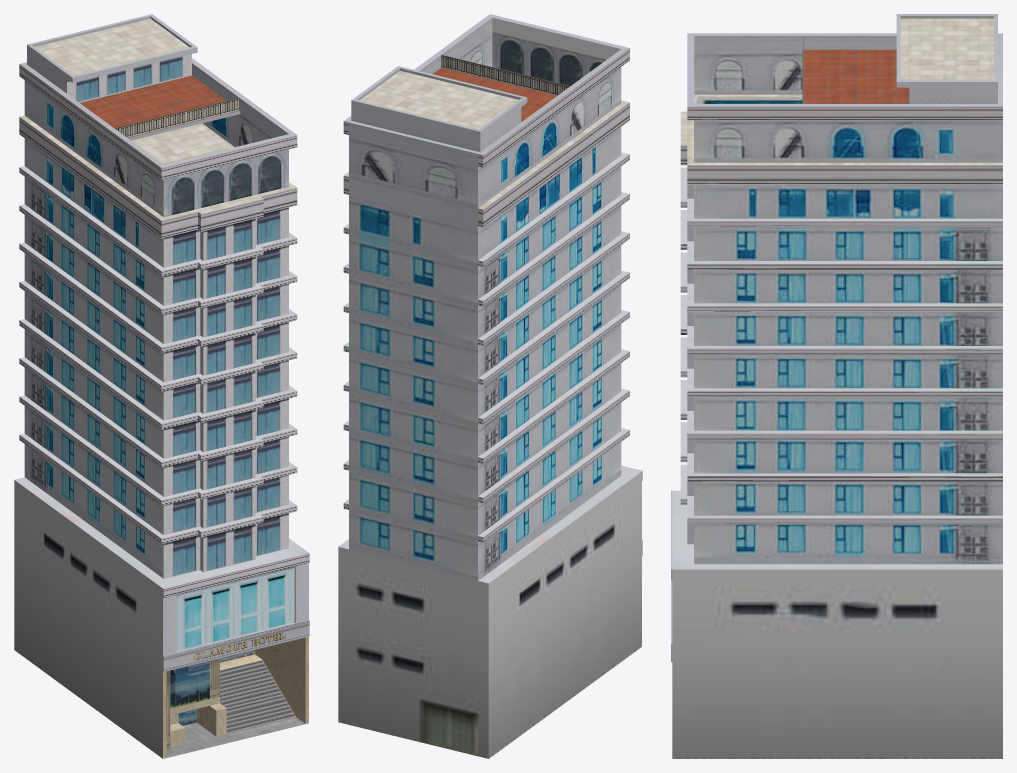
The picture shows the model from 3 angles, left to right: view 1: azimuth 30°, elevation 25°; view 2: azimuth 150°, elevation 25°; view 3: azimuth 270°, elevation 25°; orthographic projection. The views are drawn at different scales.
Visible parts, largest first — view 1: 5d7f3605a249841810a4eee9.001; view 2: 5d7f3605a249841810a4eee9.001; view 3: 5d7f3605a249841810a4eee9.001.
Part boxes in pixels (bbox=[...]): 5d7f3605a249841810a4eee9.001: bbox=[14, 14, 309, 758]; 5d7f3605a249841810a4eee9.001: bbox=[338, 14, 642, 758]; 5d7f3605a249841810a4eee9.001: bbox=[671, 14, 1002, 758].
Bounding box in the file's own units: 14 × 55.38 × 24.81.
1 material, 1 textured.
